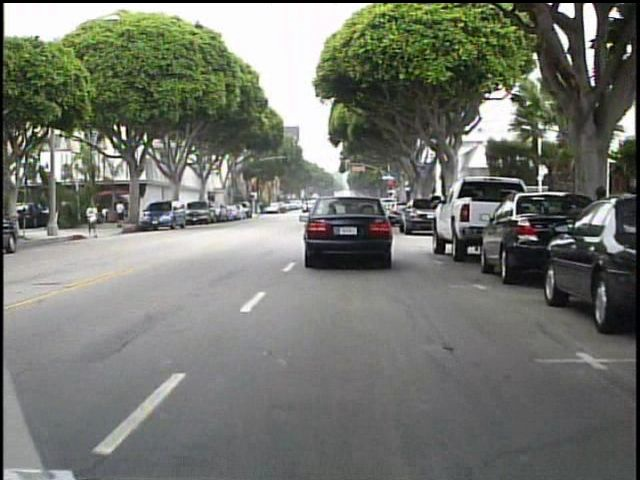person: (80, 196, 99, 239), (116, 197, 129, 228), (253, 199, 266, 221)
